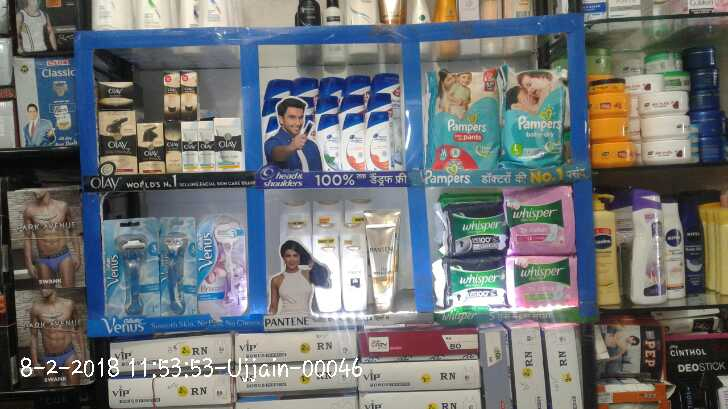venus: (105, 217, 158, 321), (198, 213, 242, 316), (158, 217, 198, 316)
